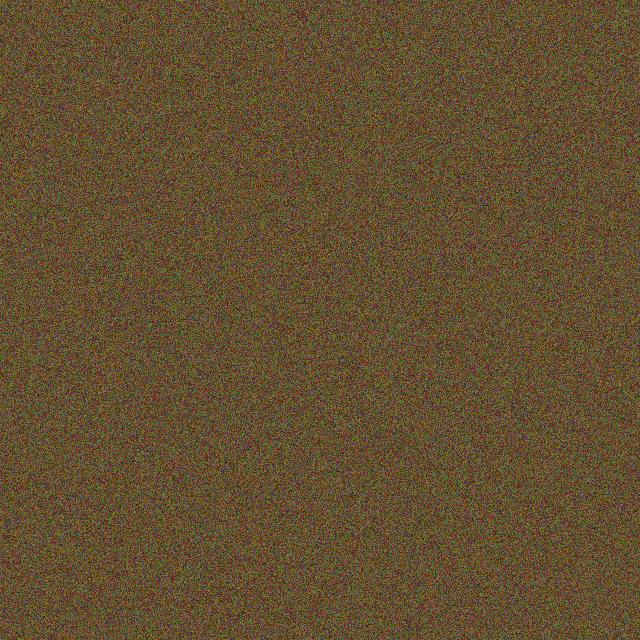unknown_man_made_object: (404, 221, 478, 287)
